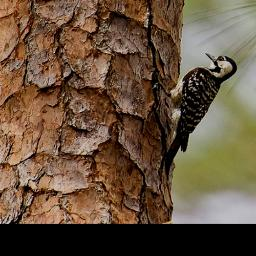Woodpecker: (151, 53, 237, 181)
